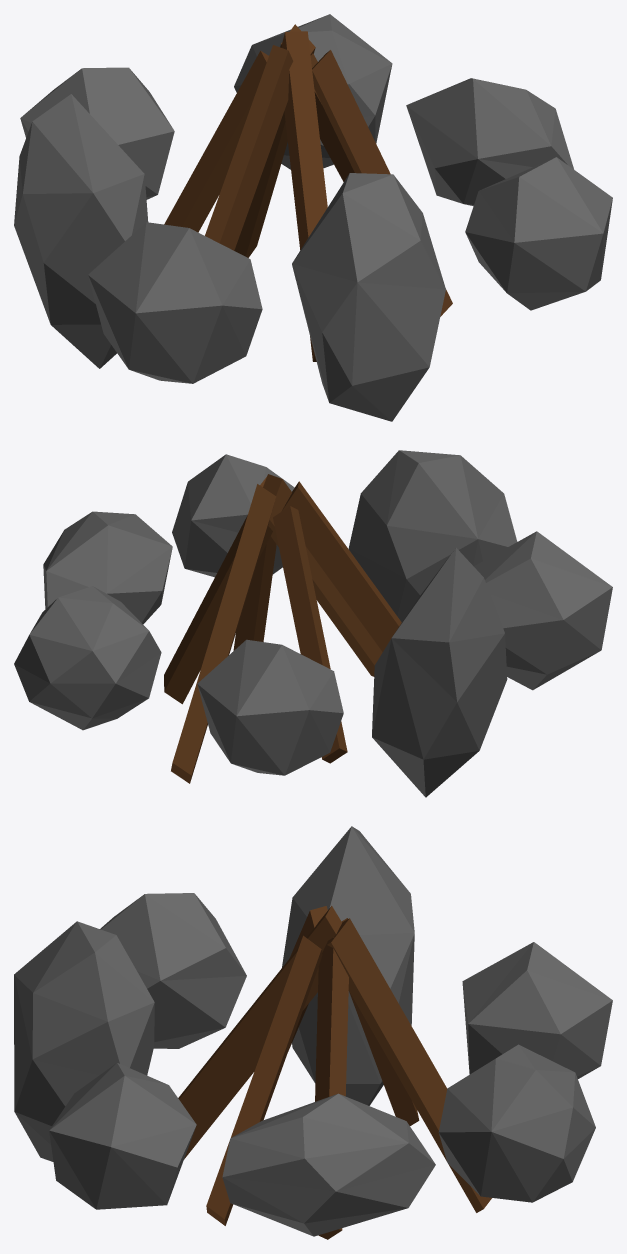
The model's file is campfire.fbx.
3 renders of one model, top to bottom at view 1: azimuth 30°, elevation 25°; view 2: azimuth 150°, elevation 25°; view 3: azimuth 270°, elevation 25°, orthographic. The views are drawn at different scales.
Visible parts, largest first — view 1: campfire; view 2: campfire; view 3: campfire.
Boxes of the visible parts, x1,y1,x2,y2 form: campfire: (14,14,612,421); campfire: (14,450,612,797); campfire: (14,826,612,1239).
Bounding box in the file's own units: 77.18 × 42.83 × 76.88.
